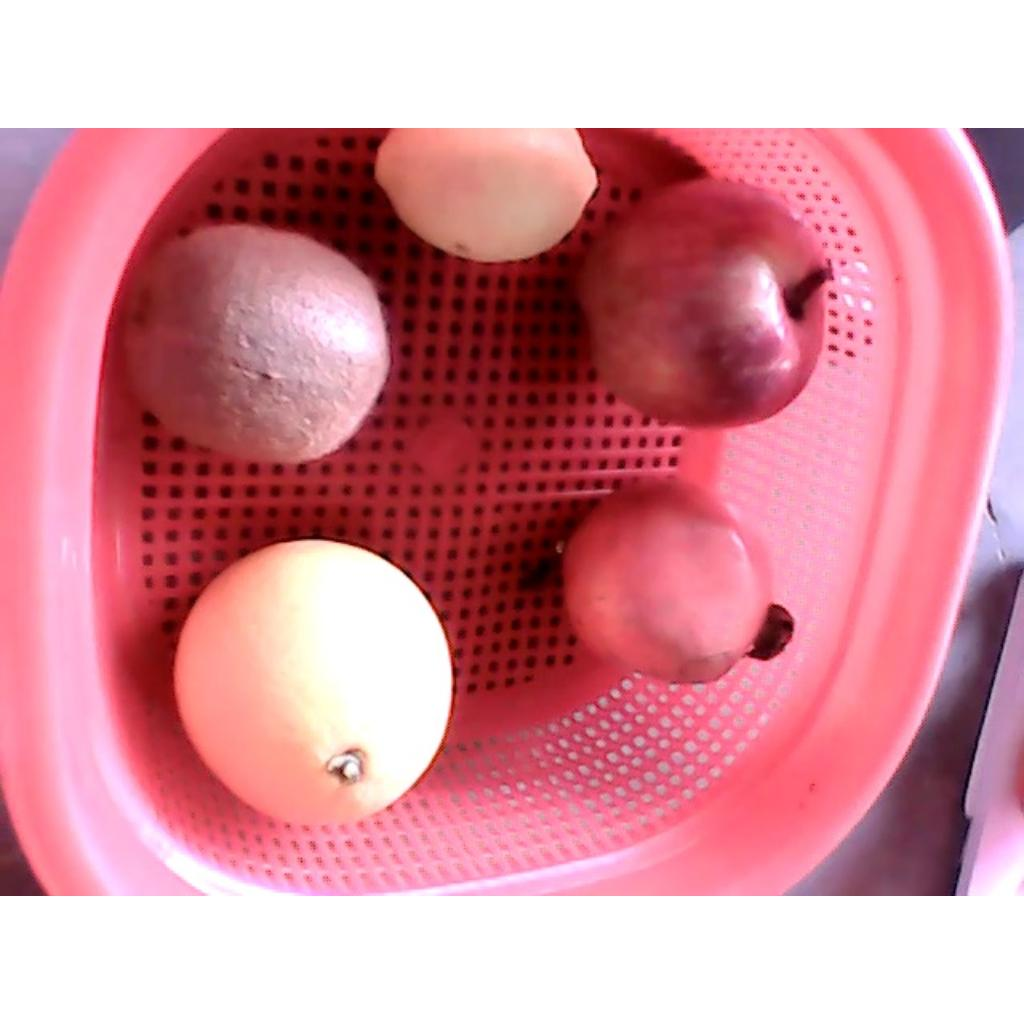apple: (567, 174, 831, 430)
kiwi: (120, 221, 390, 464)
lemon: (374, 128, 599, 261)
orange: (173, 539, 452, 826)
pomegranate: (562, 475, 796, 684)
